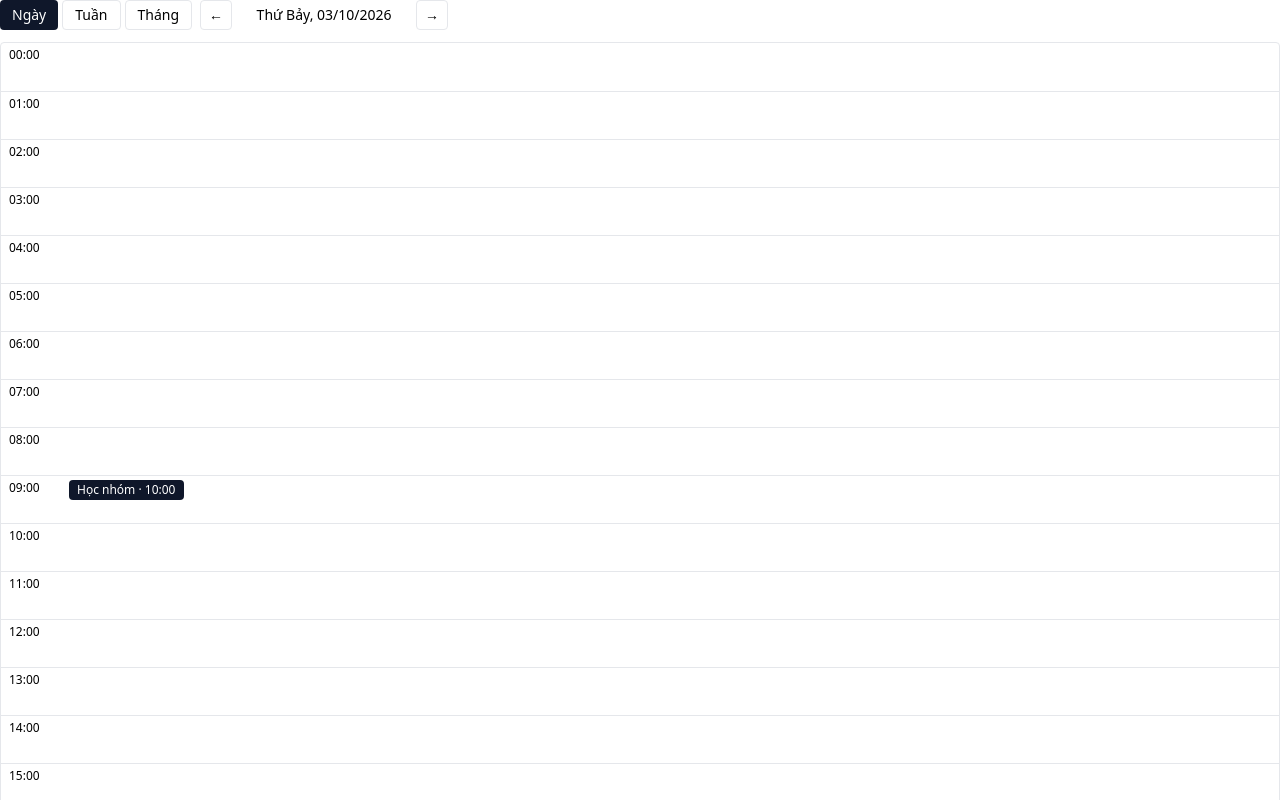
CalendarView navigation › điều hướng sau/trước theo từng chế độ
Click the button named "xem sau".
click(432, 15)  # box [416,0,448,30]
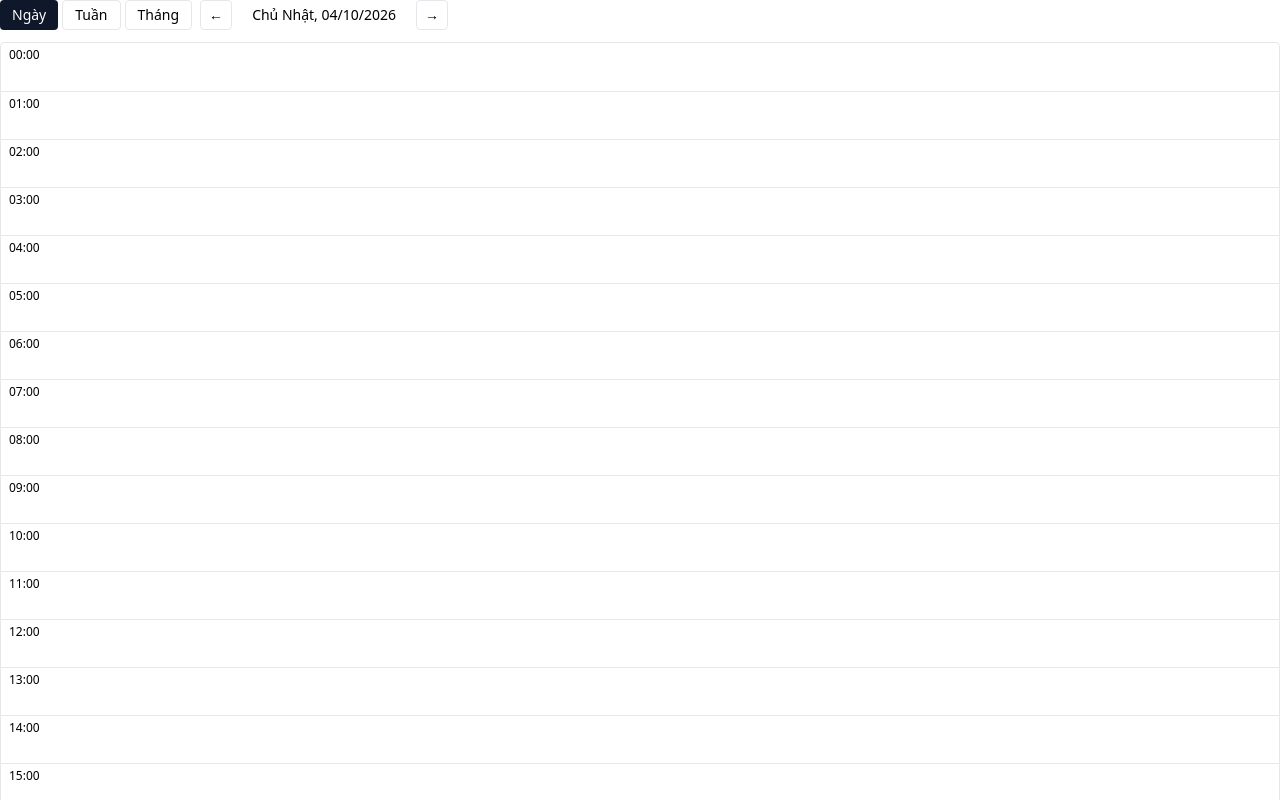
Result: the text "Chủ Nhật, 04/10/2026" is shown at [252,5,396,24]
Click the button named "xem trước".
click(216, 15)  # box [200,0,232,30]
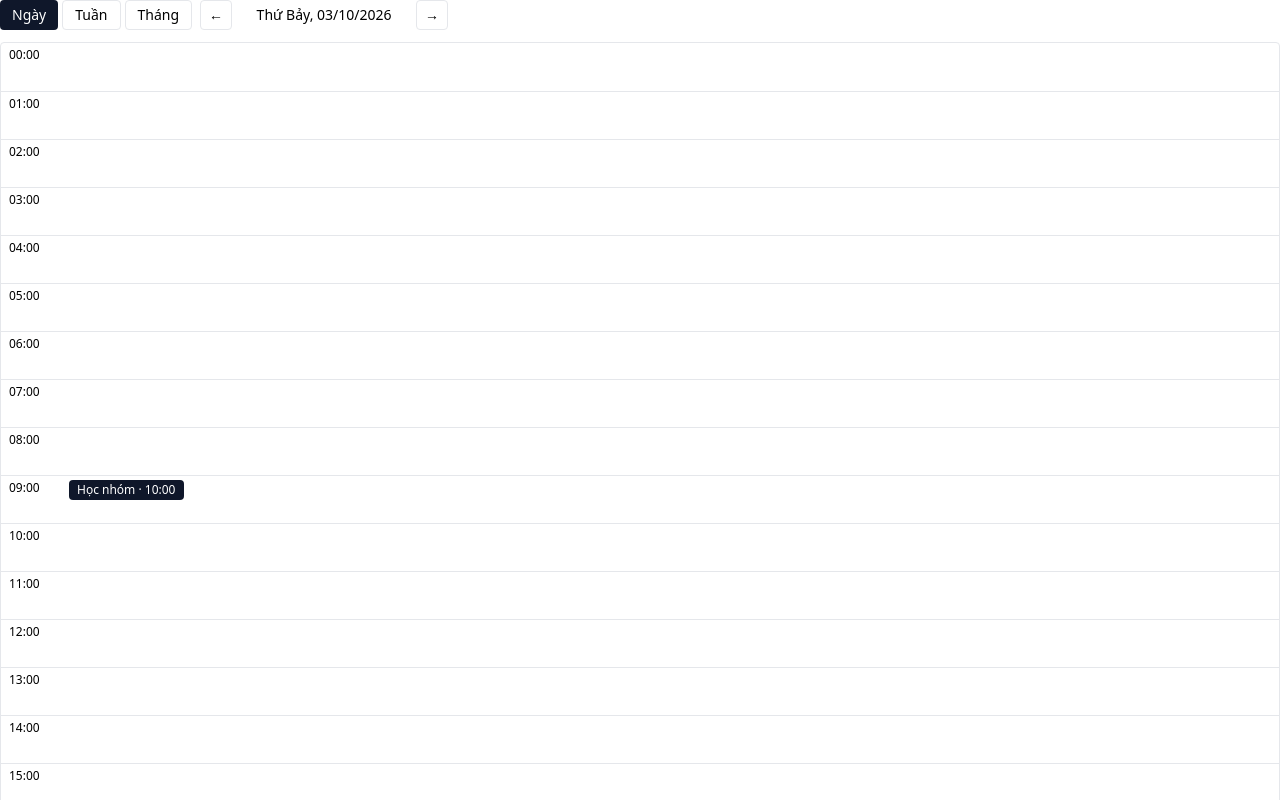
Result: the text "Thứ Bảy, 03/10/2026" is shown at [257,5,392,24]
Click the button "Tuần".
click(91, 15)  # box [62,0,121,30]
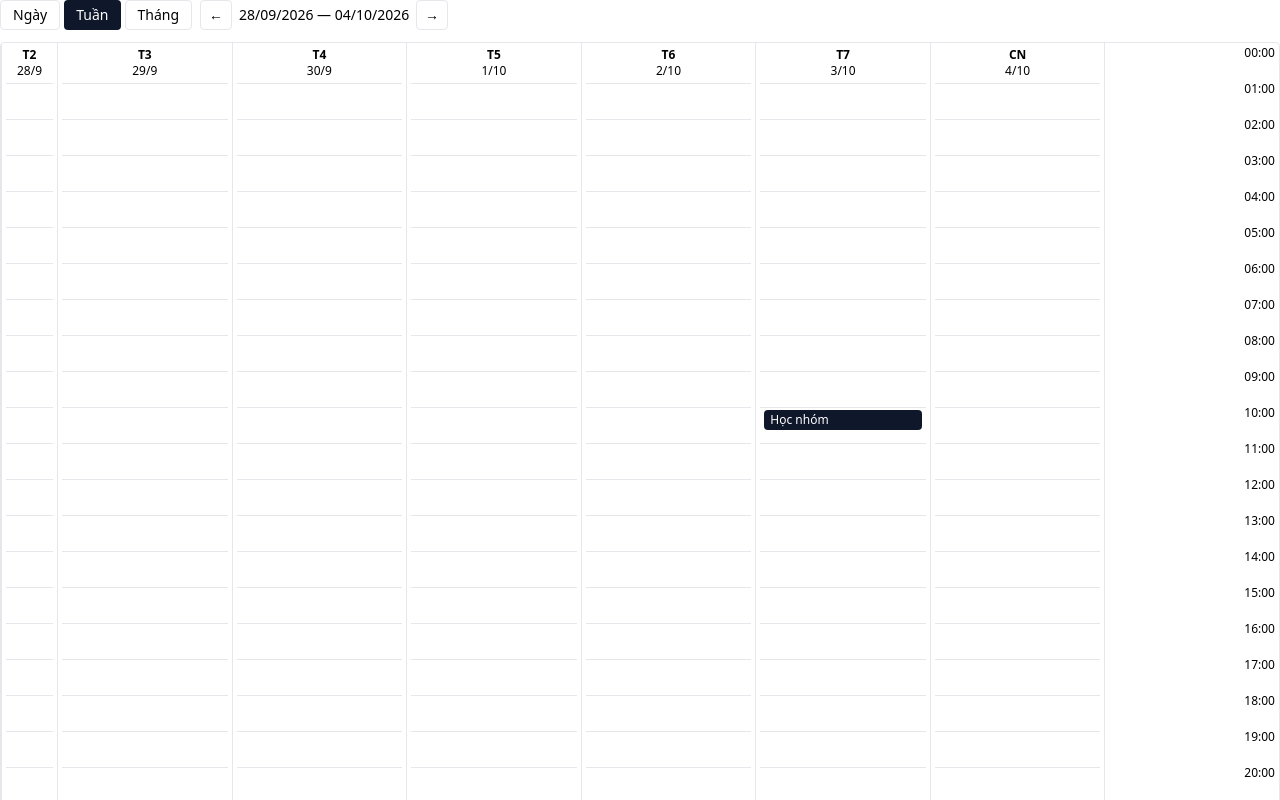
Click the button named "xem sau".
click(432, 15)  # box [416,0,448,30]
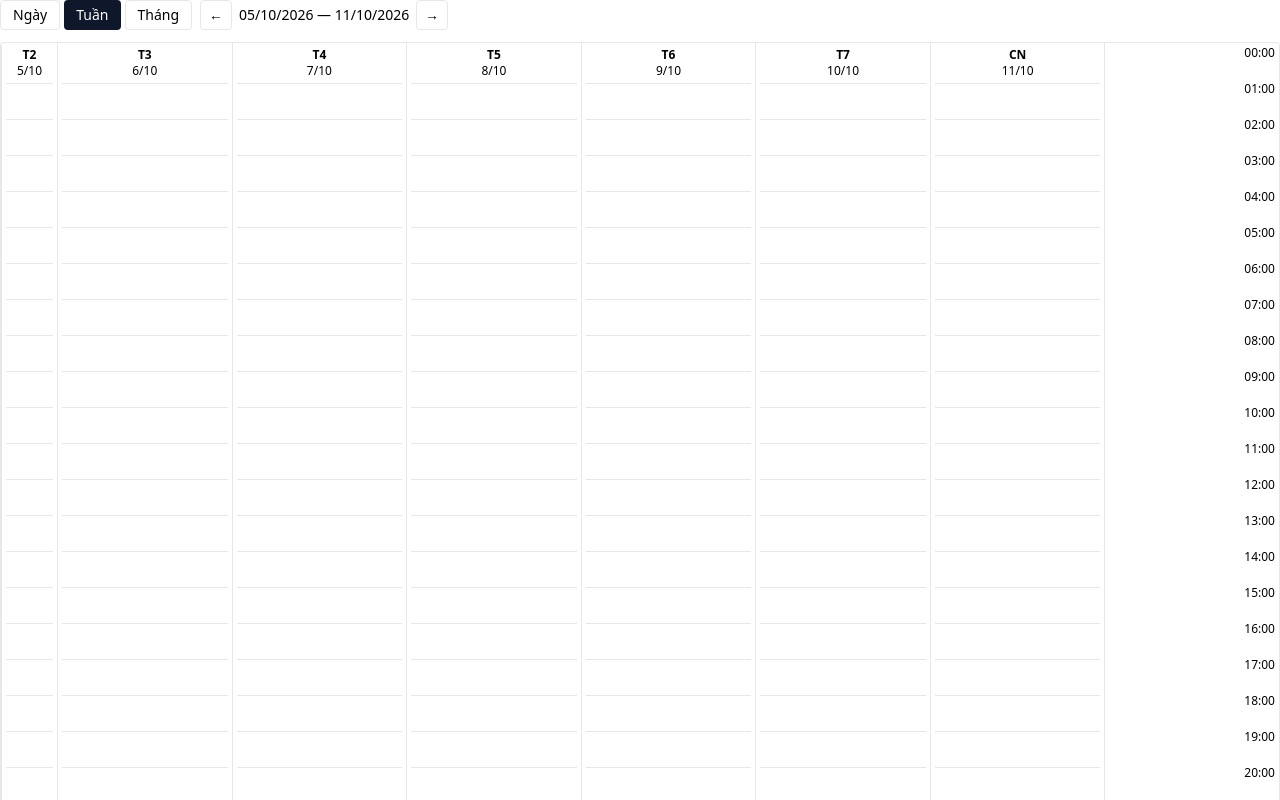
Result: the text "05/10/2026 — 11/10/2026" is shown at [236,5,412,25]
Click the button "Tháng".
click(158, 15)  # box [124,0,192,30]
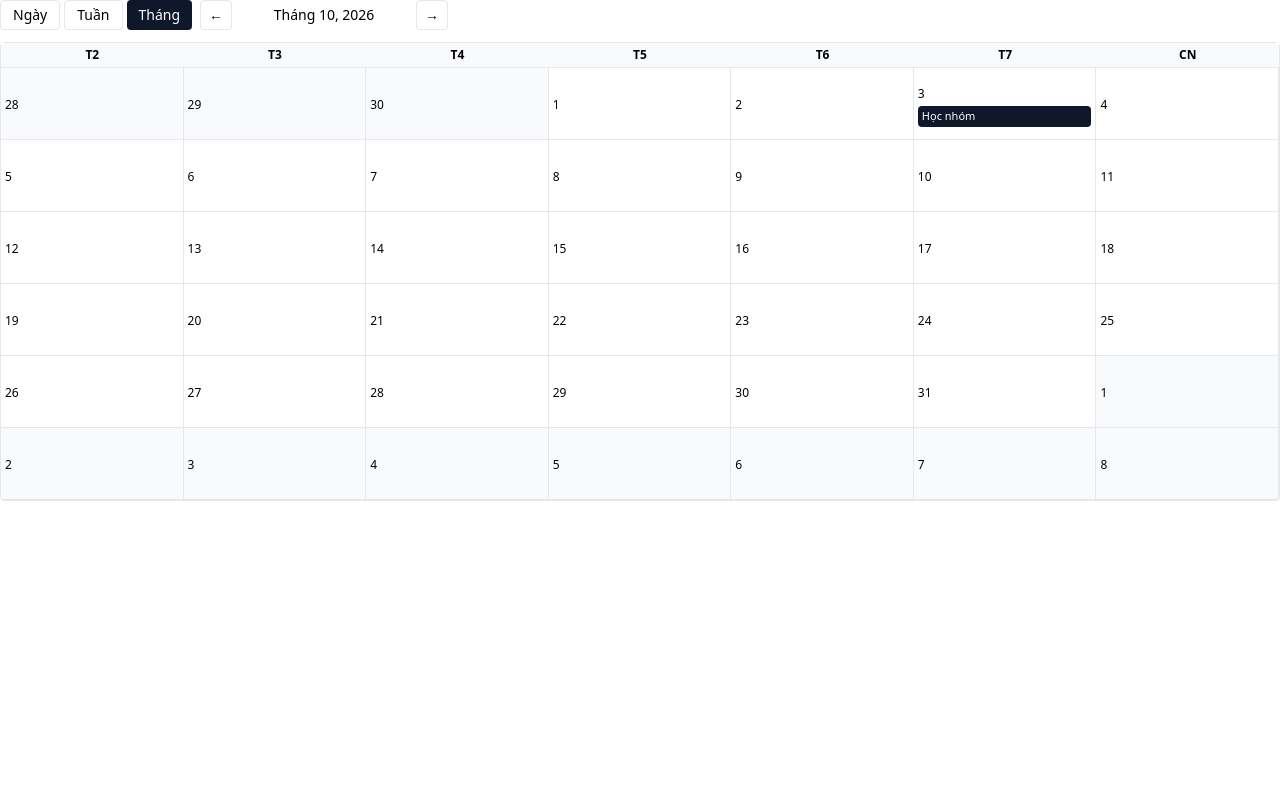
Click the button named "xem trước".
click(216, 15)  # box [200,0,232,30]
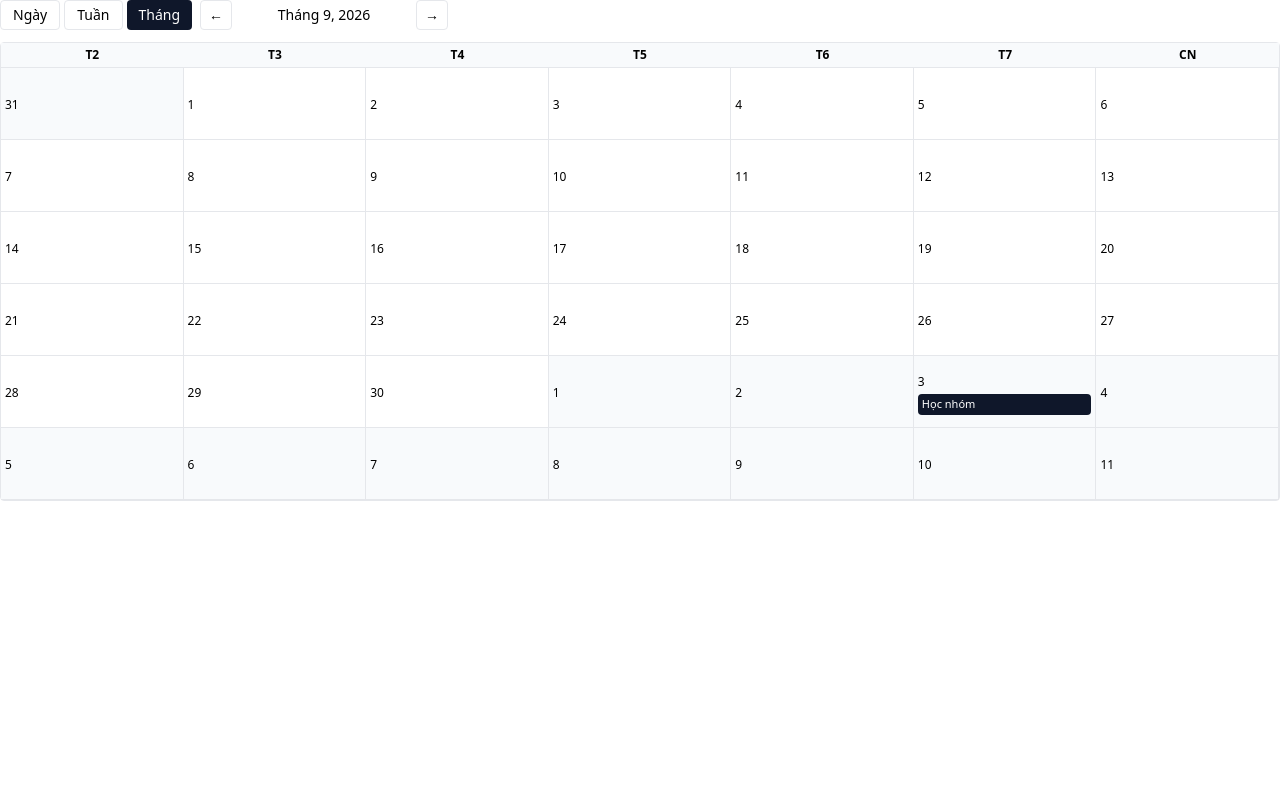
Result: the text "Tháng 9, 2026" is shown at [278,5,370,24]
